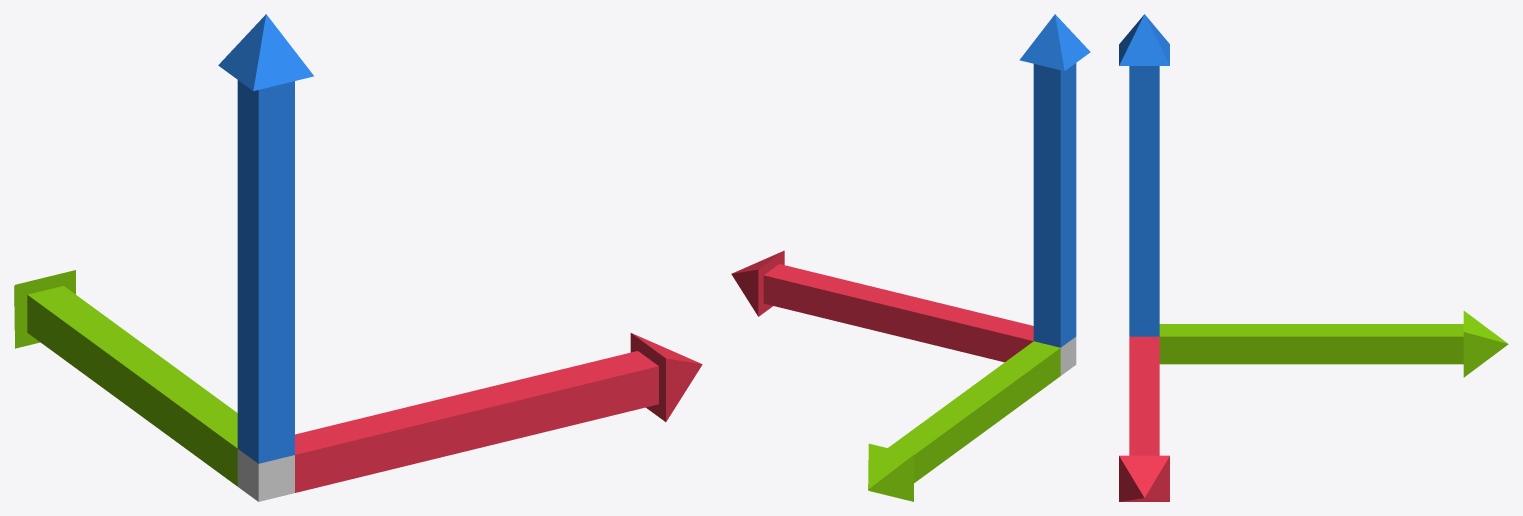
File: axes.glb
3 renders of one model, left to right at view 1: azimuth 30°, elevation 25°; view 2: azimuth 150°, elevation 25°; view 3: azimuth 270°, elevation 25°, orthographic. The views are drawn at different scales.
Parts seen in each view (by area): view 1: Cube; view 2: Cube; view 3: Cube.
Boxes of the visible parts, x1,y1,x2,y2 form: Cube: (14,14,702,501); Cube: (731,14,1090,501); Cube: (1119,14,1508,501).
Bounding box in the file's own units: 0.1283 × 0.1283 × 0.1283.
